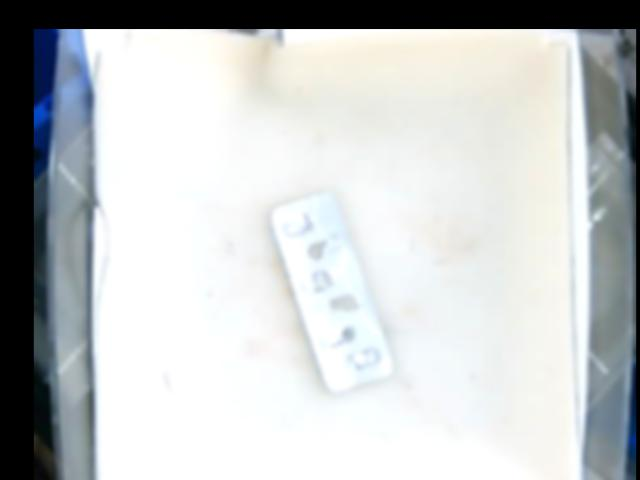Medicine: (273, 192, 390, 395)
